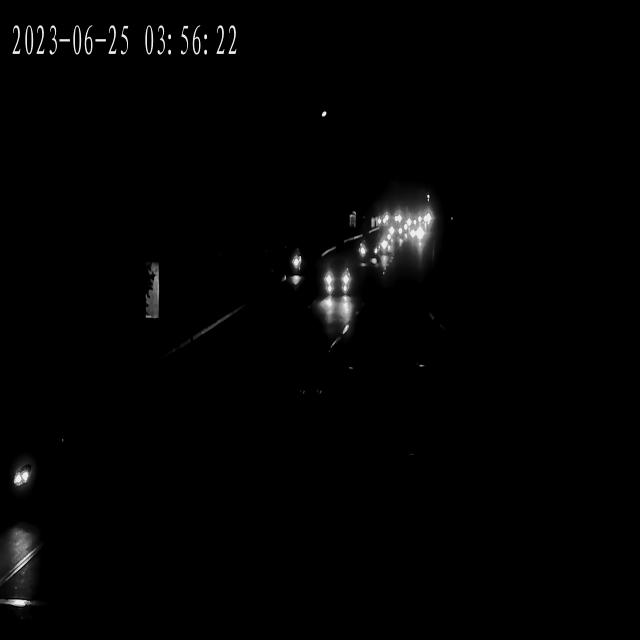Car: (0, 414, 47, 517), (322, 262, 354, 299), (355, 235, 388, 264), (286, 253, 305, 287), (404, 223, 428, 242), (381, 211, 404, 229), (383, 217, 404, 236), (406, 227, 428, 245), (415, 212, 434, 227)
